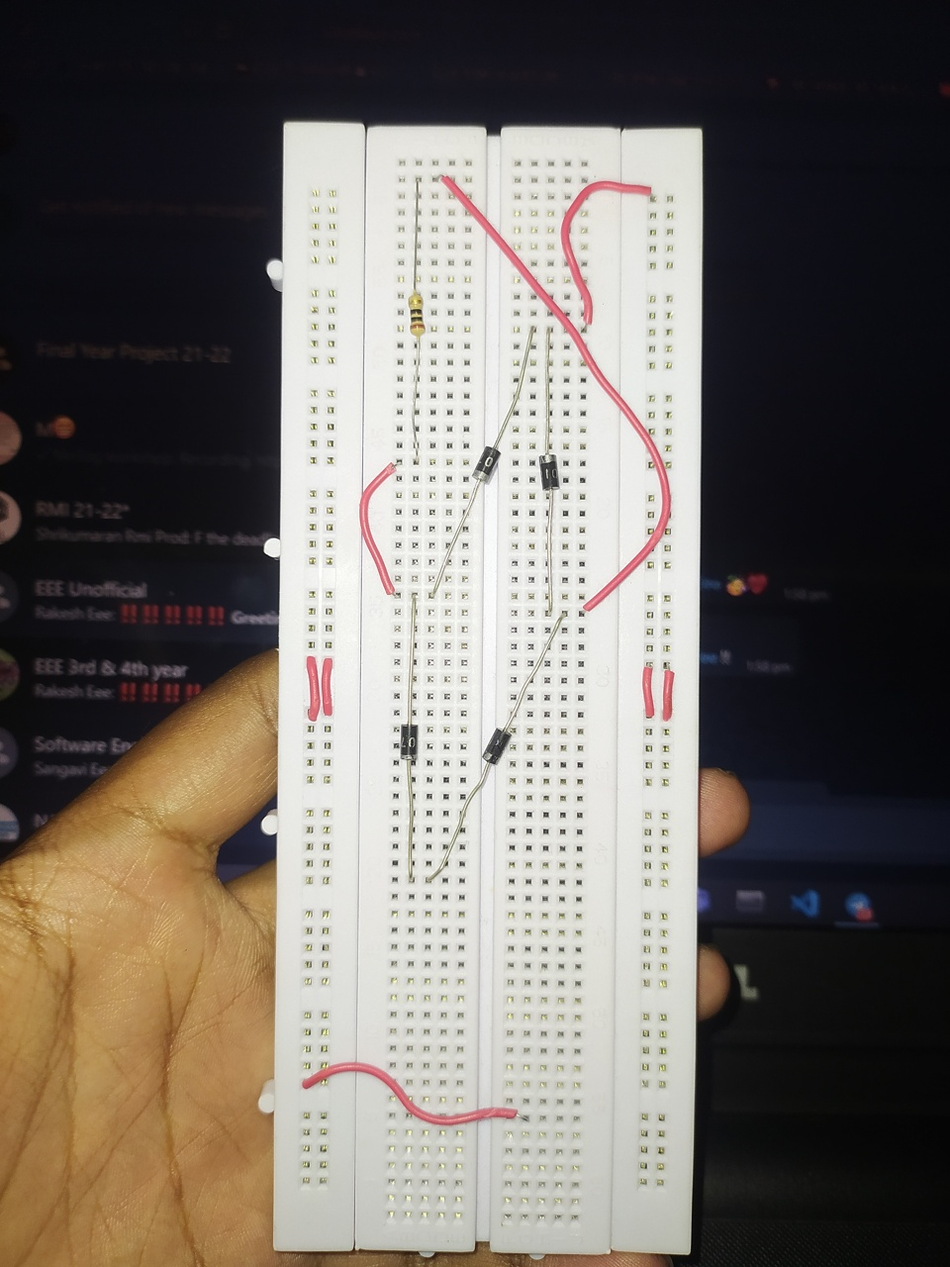resistor: (406, 293, 428, 340)
